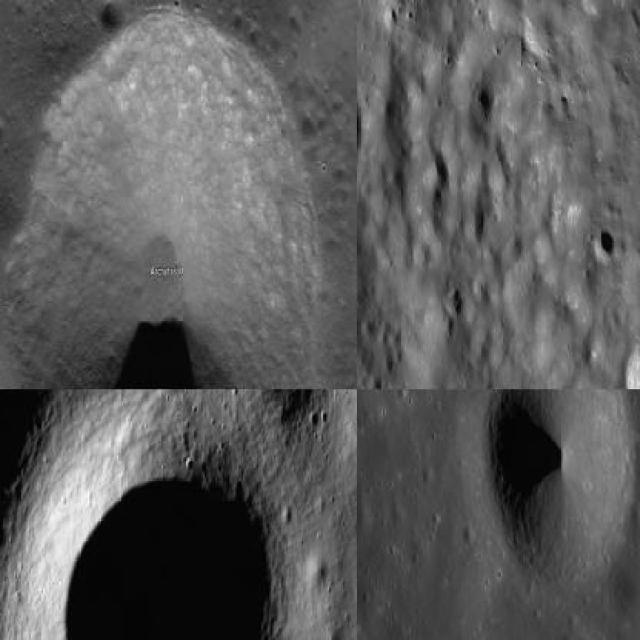crater: (9, 8, 322, 388), (48, 463, 289, 639), (486, 389, 631, 589), (95, 0, 134, 31), (592, 229, 617, 263)
